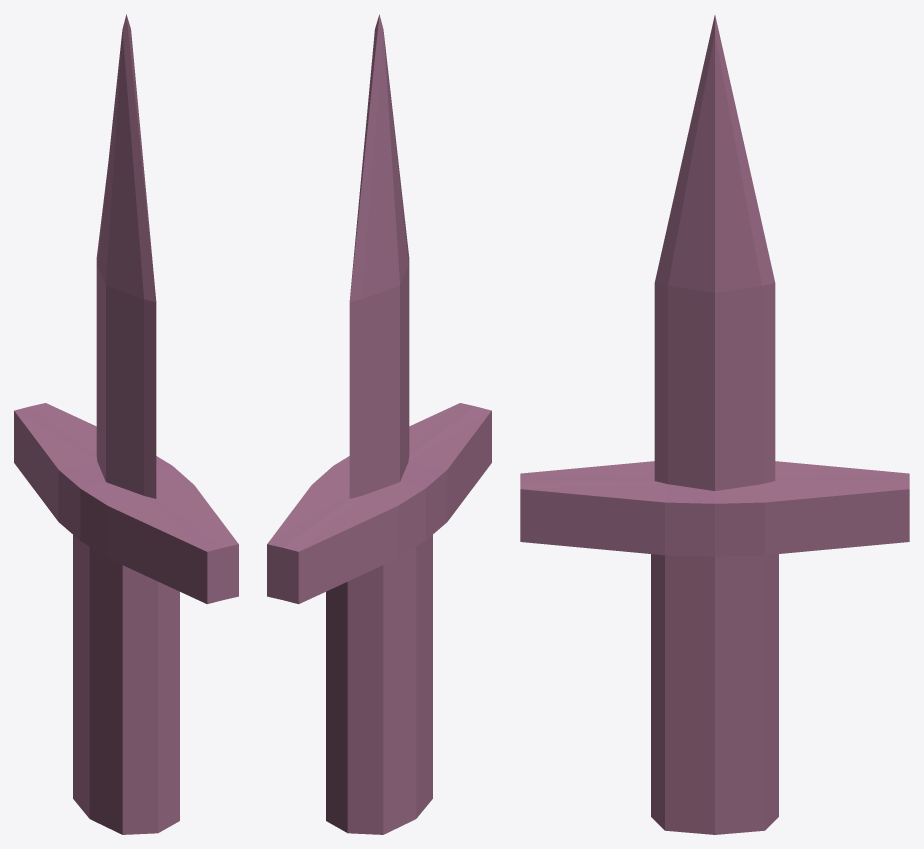
The model's file is dagger_1.fbx.
3 renders of one model, left to right at view 1: azimuth 30°, elevation 25°; view 2: azimuth 150°, elevation 25°; view 3: azimuth 270°, elevation 25°, orthographic.
Visible parts, largest first — view 1: Cube; view 2: Cube; view 3: Cube.
Boxes of the visible parts, x1,y1,x2,y2 form: Cube: (14,14,238,834); Cube: (267,14,491,834); Cube: (520,15,909,834).
Bounding box in the file's own units: 168 × 1385 × 609.
